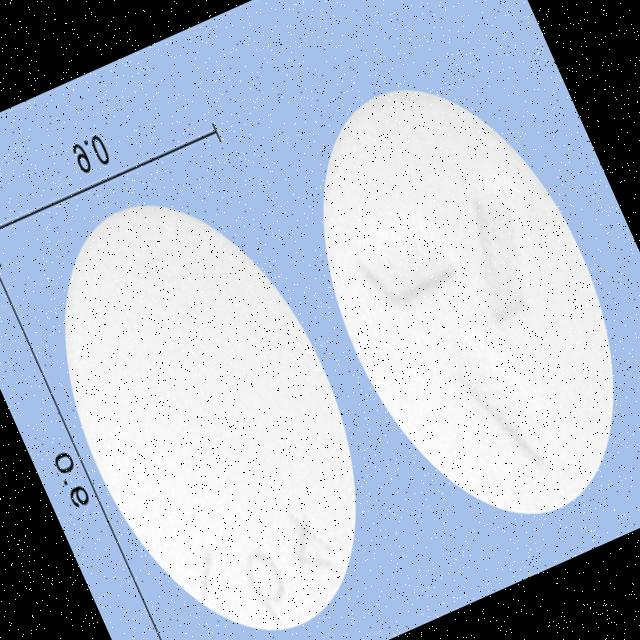Rulid Tab: (5, 162, 418, 640), (263, 44, 640, 559)
